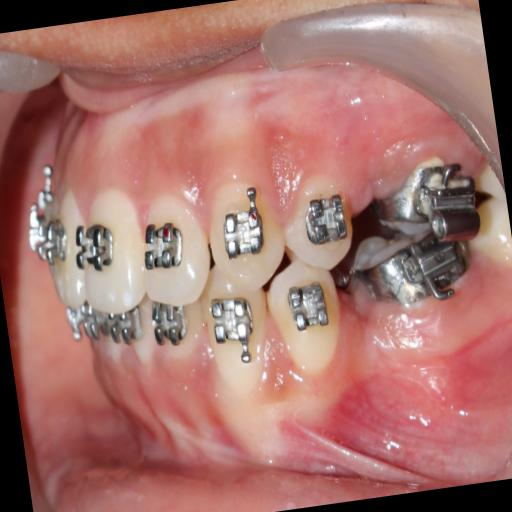correct_brace: (256, 248, 362, 385), (274, 157, 368, 280), (212, 180, 276, 266), (137, 212, 195, 282), (278, 278, 338, 340)
incorrect_brace: (129, 184, 214, 318), (300, 186, 354, 252)
